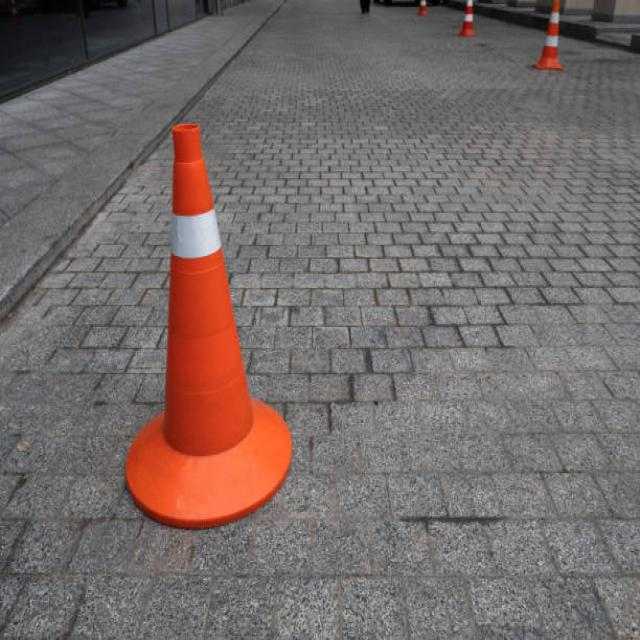Traffic Cone: (107, 82, 318, 565)
